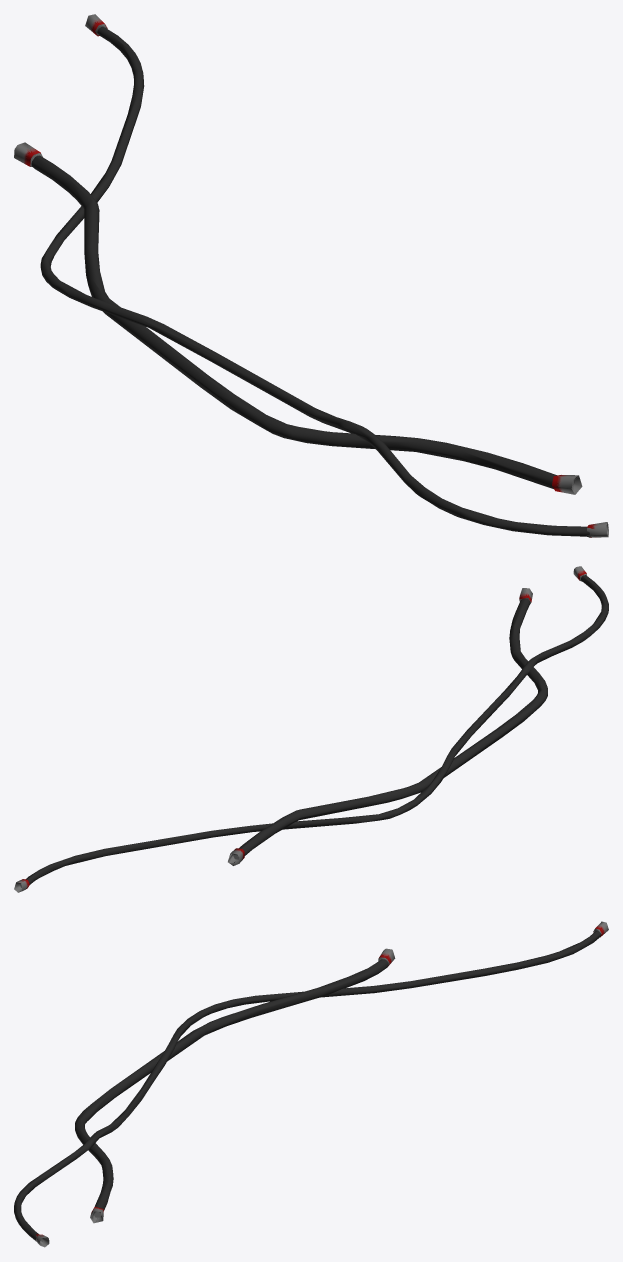
File: core_cable_lod1.glb
3 renders of one model, top to bottom at view 1: azimuth 30°, elevation 25°; view 2: azimuth 150°, elevation 25°; view 3: azimuth 330°, elevation 25°, orthographic. The views are drawn at different scales.
Parts seen in each view (by area): view 1: Prop_Cable_3; view 2: Prop_Cable_3; view 3: Prop_Cable_3.
Boxes of the visible parts, x1,y1,x2,y2 form: Prop_Cable_3: [14, 14, 608, 537]; Prop_Cable_3: [14, 566, 608, 892]; Prop_Cable_3: [14, 921, 608, 1247].
Size of the model in its own units: 1.56 by 0.112 by 5.73.
Materials: 2 (2 with a texture image).
